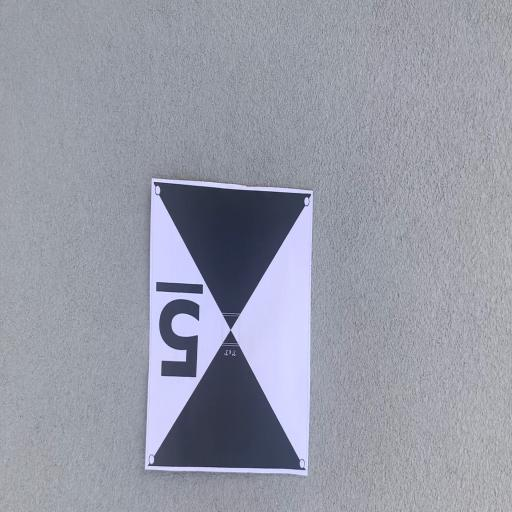target5: (146, 178, 312, 475)
